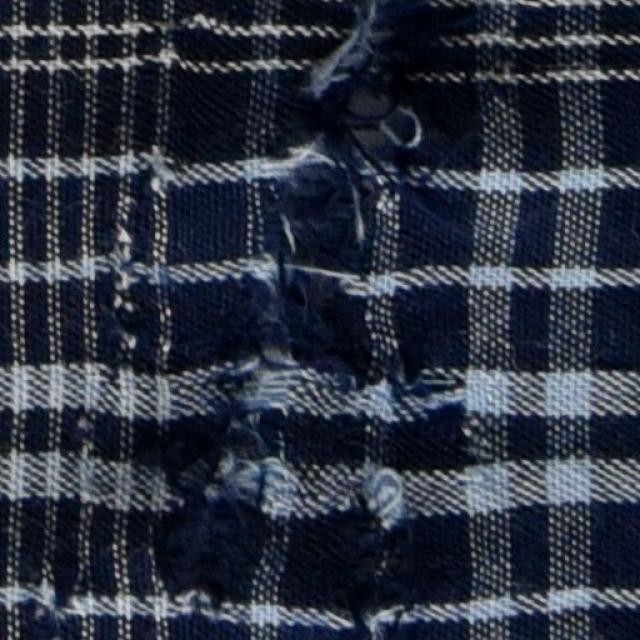Hole: (353, 90, 400, 166)
Snag: (242, 66, 431, 429), (133, 440, 270, 619), (324, 486, 423, 640), (352, 1, 449, 151)
